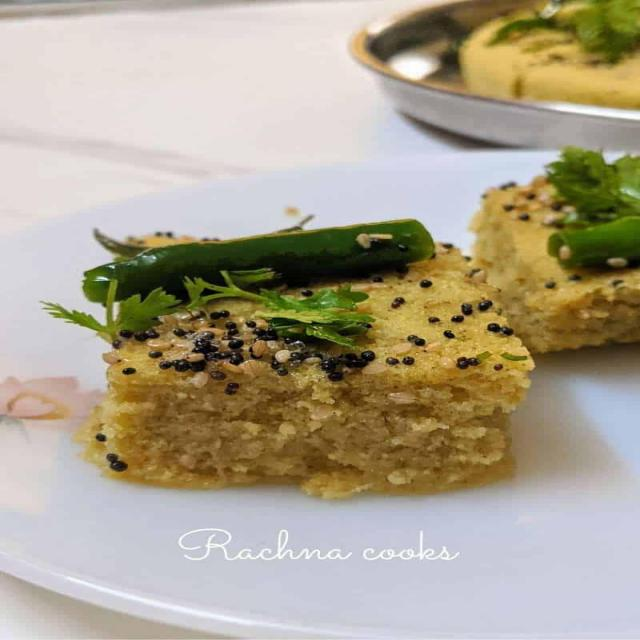dhokla: (93, 232, 523, 487), (464, 148, 640, 366)
